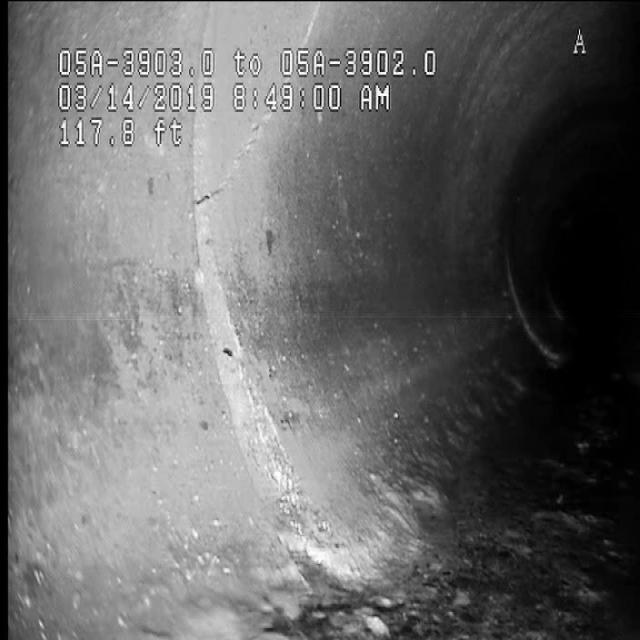Crack: (198, 123, 270, 209)
